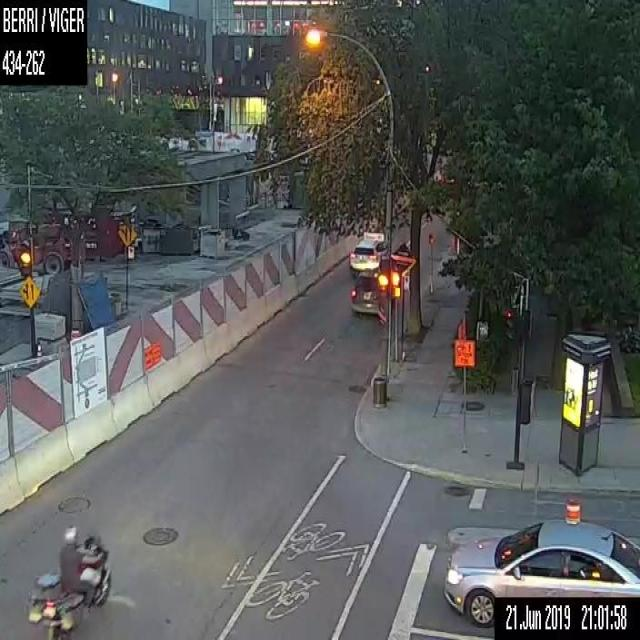construction: (453, 339, 477, 455), (564, 496, 582, 520), (34, 340, 43, 362), (72, 326, 82, 340)
vehicle: (441, 517, 639, 628), (26, 522, 109, 638), (349, 270, 385, 312), (348, 238, 388, 269)
